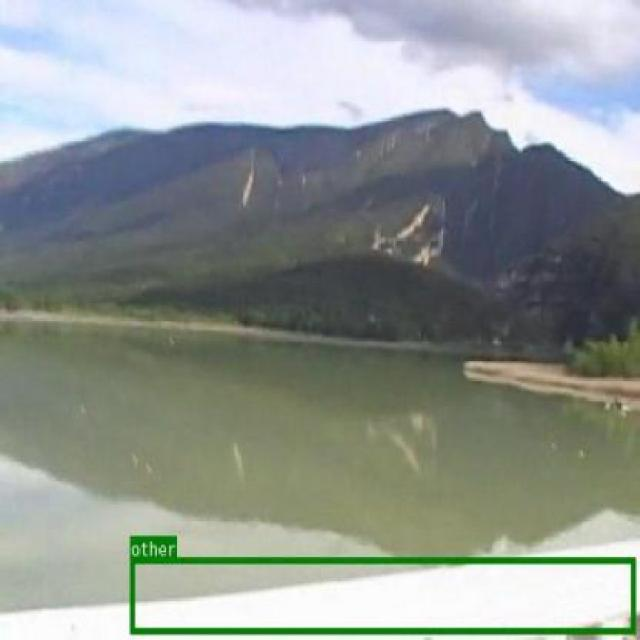other: (130, 556, 635, 633)
